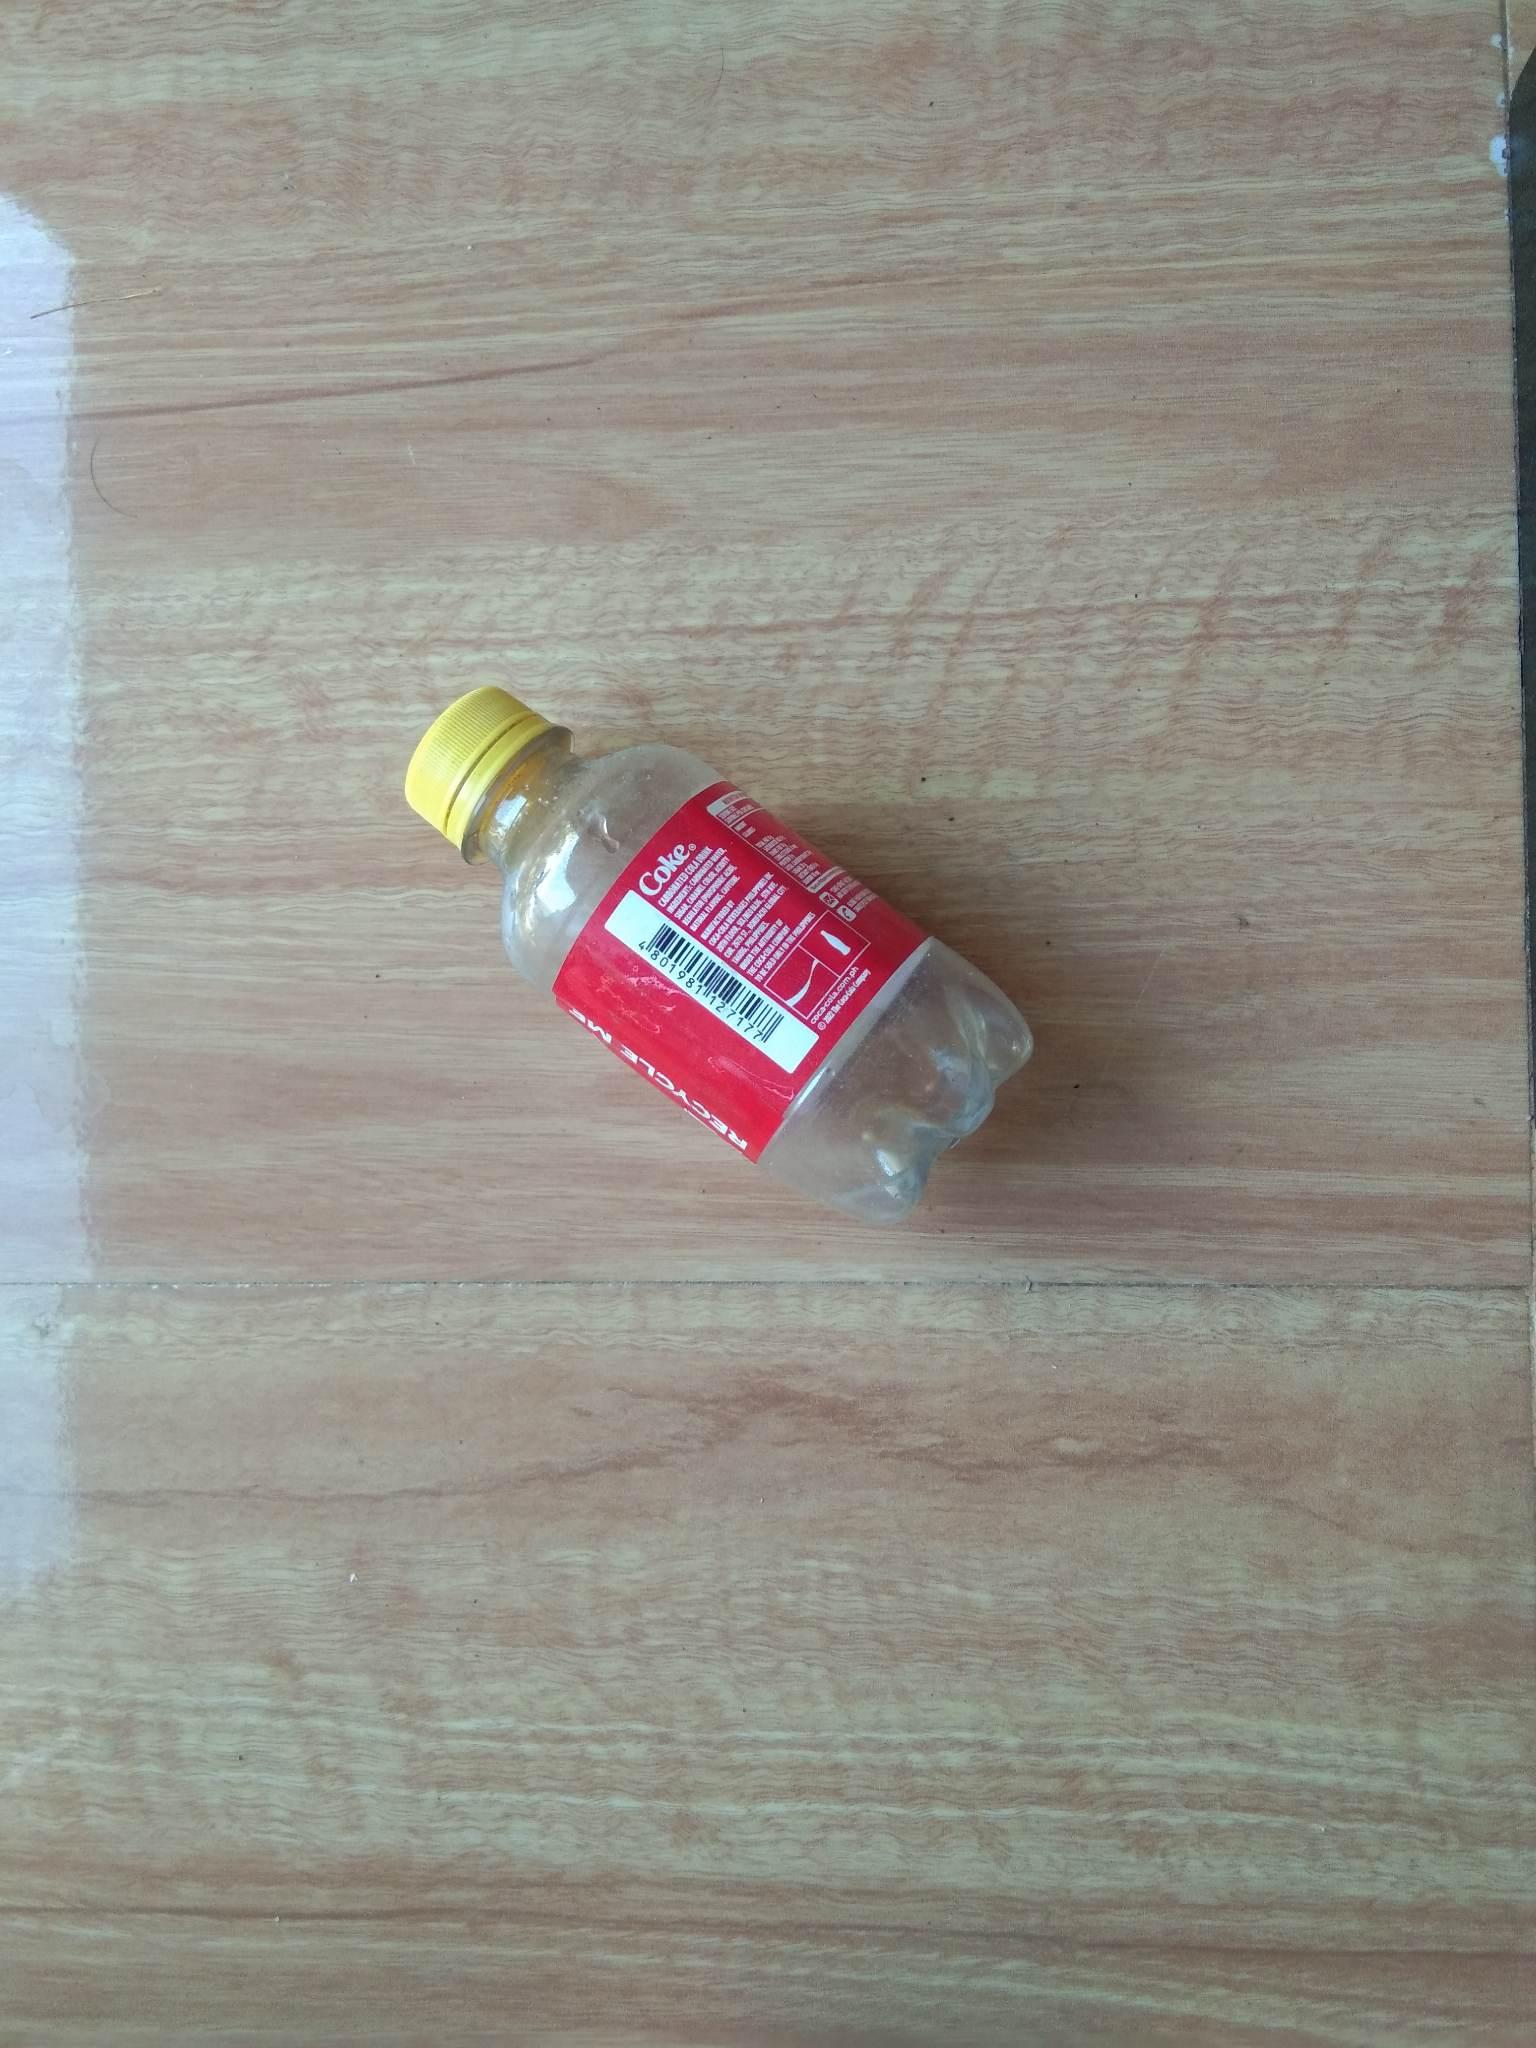plastic: (328, 664, 1058, 1300)
